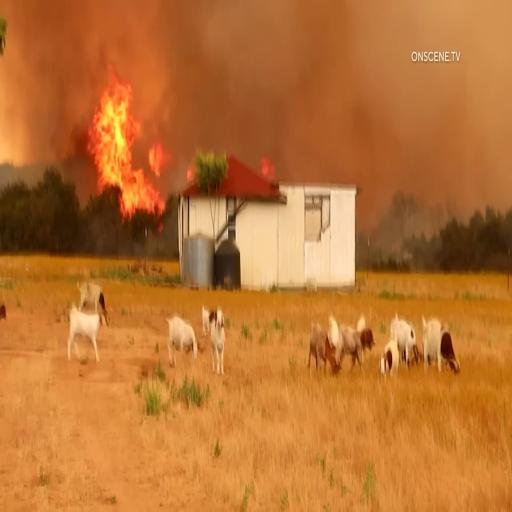fire: (78, 48, 174, 230)
